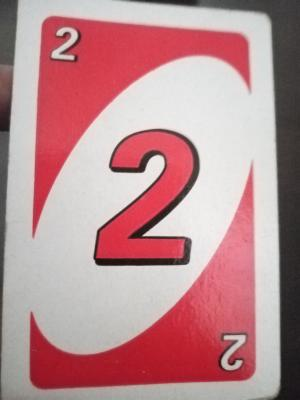num_2: (45, 18, 86, 69), (214, 327, 253, 378)
